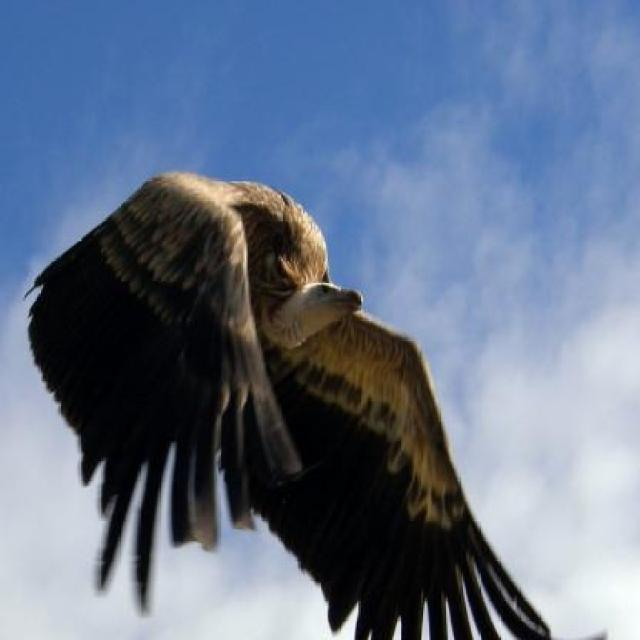Eagle: (26, 173, 543, 640)
